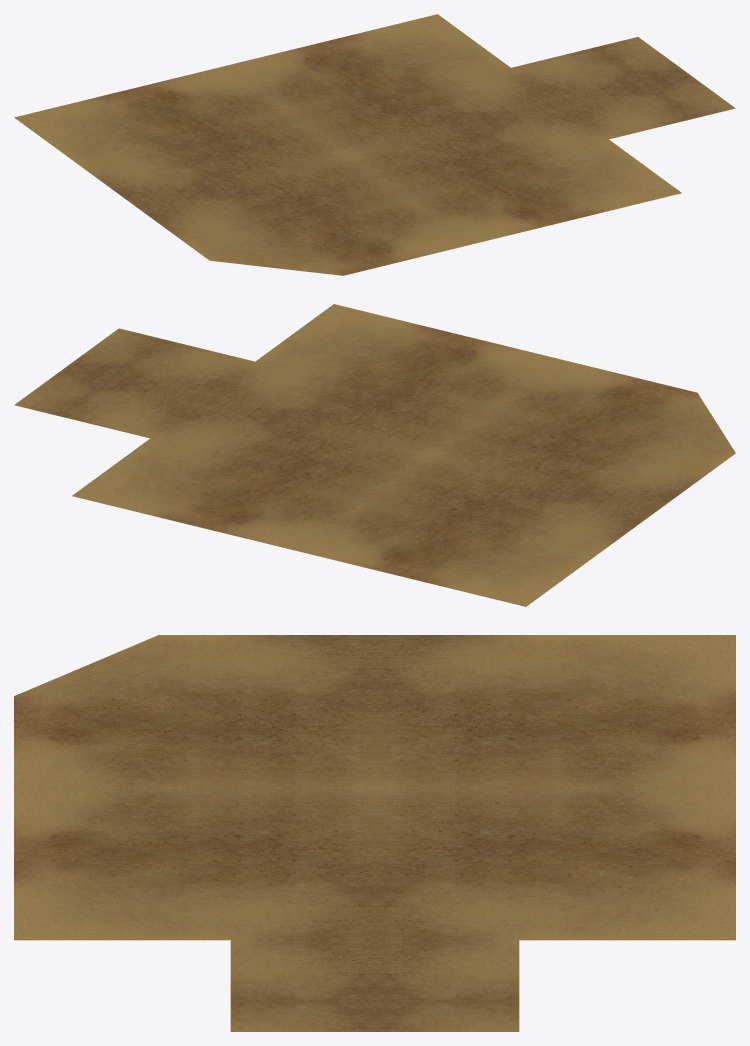
The model's file is Activities_Desert_all.FBX.
The picture shows the model from 3 angles, top to bottom: view 1: azimuth 30°, elevation 25°; view 2: azimuth 150°, elevation 25°; view 3: azimuth 270°, elevation 25°; orthographic projection. The views are drawn at different scales.
Visible parts, largest first — view 1: Activities_Desert_all; view 2: Activities_Desert_all; view 3: Activities_Desert_all.
Part boxes in pixels (box(x1,y1,x2,y2)): Activities_Desert_all: box(14, 14, 735, 275); Activities_Desert_all: box(14, 304, 735, 606); Activities_Desert_all: box(14, 635, 735, 1031).
Size of the model in its own units: 52 by 6.58e-06 by 40.
